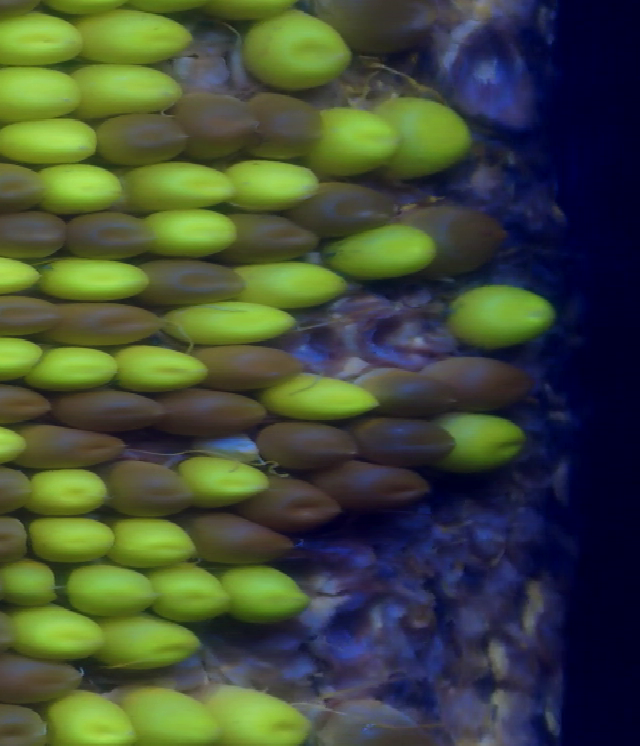fluorescent: (246, 13, 358, 93), (375, 95, 469, 173), (453, 282, 556, 353), (327, 219, 438, 284), (204, 684, 317, 746), (1, 602, 109, 666), (89, 611, 202, 672), (65, 10, 191, 63), (69, 59, 186, 116), (261, 369, 381, 424), (117, 161, 235, 216), (166, 302, 304, 349), (37, 251, 155, 301), (316, 105, 397, 177), (435, 411, 526, 475), (112, 340, 211, 398), (220, 159, 324, 214), (226, 264, 346, 310), (124, 690, 222, 746), (144, 206, 243, 261), (171, 455, 270, 508), (106, 515, 204, 568), (0, 64, 88, 123), (68, 559, 157, 617), (21, 344, 119, 396), (219, 567, 311, 622), (46, 691, 133, 746), (149, 564, 230, 622), (0, 119, 102, 165), (26, 469, 116, 521), (24, 518, 119, 566), (0, 14, 87, 65), (37, 164, 121, 216), (0, 559, 63, 610), (0, 335, 43, 385), (0, 254, 41, 300)
nonfluorescent: (301, 1, 440, 60), (290, 176, 406, 239), (139, 254, 255, 314), (412, 208, 512, 276), (53, 383, 176, 437), (147, 384, 279, 433), (347, 412, 458, 469), (187, 508, 298, 565), (433, 355, 538, 414), (53, 298, 166, 351), (178, 93, 260, 166), (248, 91, 327, 164), (308, 698, 428, 746), (258, 418, 364, 471), (357, 365, 462, 417), (13, 423, 128, 470), (317, 463, 434, 508), (94, 114, 195, 166), (103, 459, 193, 517), (247, 478, 342, 532), (0, 653, 88, 711), (194, 346, 299, 393), (225, 211, 322, 261), (66, 213, 162, 261), (0, 208, 72, 262), (0, 296, 63, 339), (0, 376, 55, 424), (0, 161, 43, 217), (0, 701, 49, 746), (0, 467, 38, 521), (0, 508, 31, 566), (0, 1, 46, 22)
